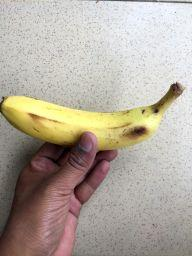Banana Ripe: (0, 77, 191, 158)
